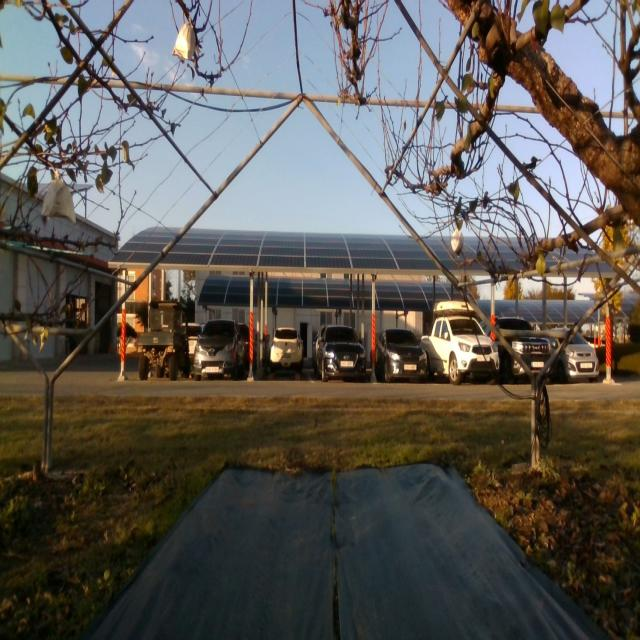pearbags: (41, 179, 76, 223), (172, 21, 195, 60), (451, 228, 464, 255)
